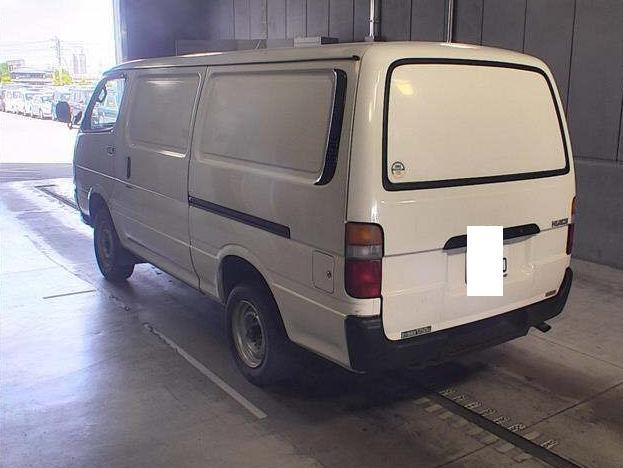Van: (69, 44, 581, 372)
